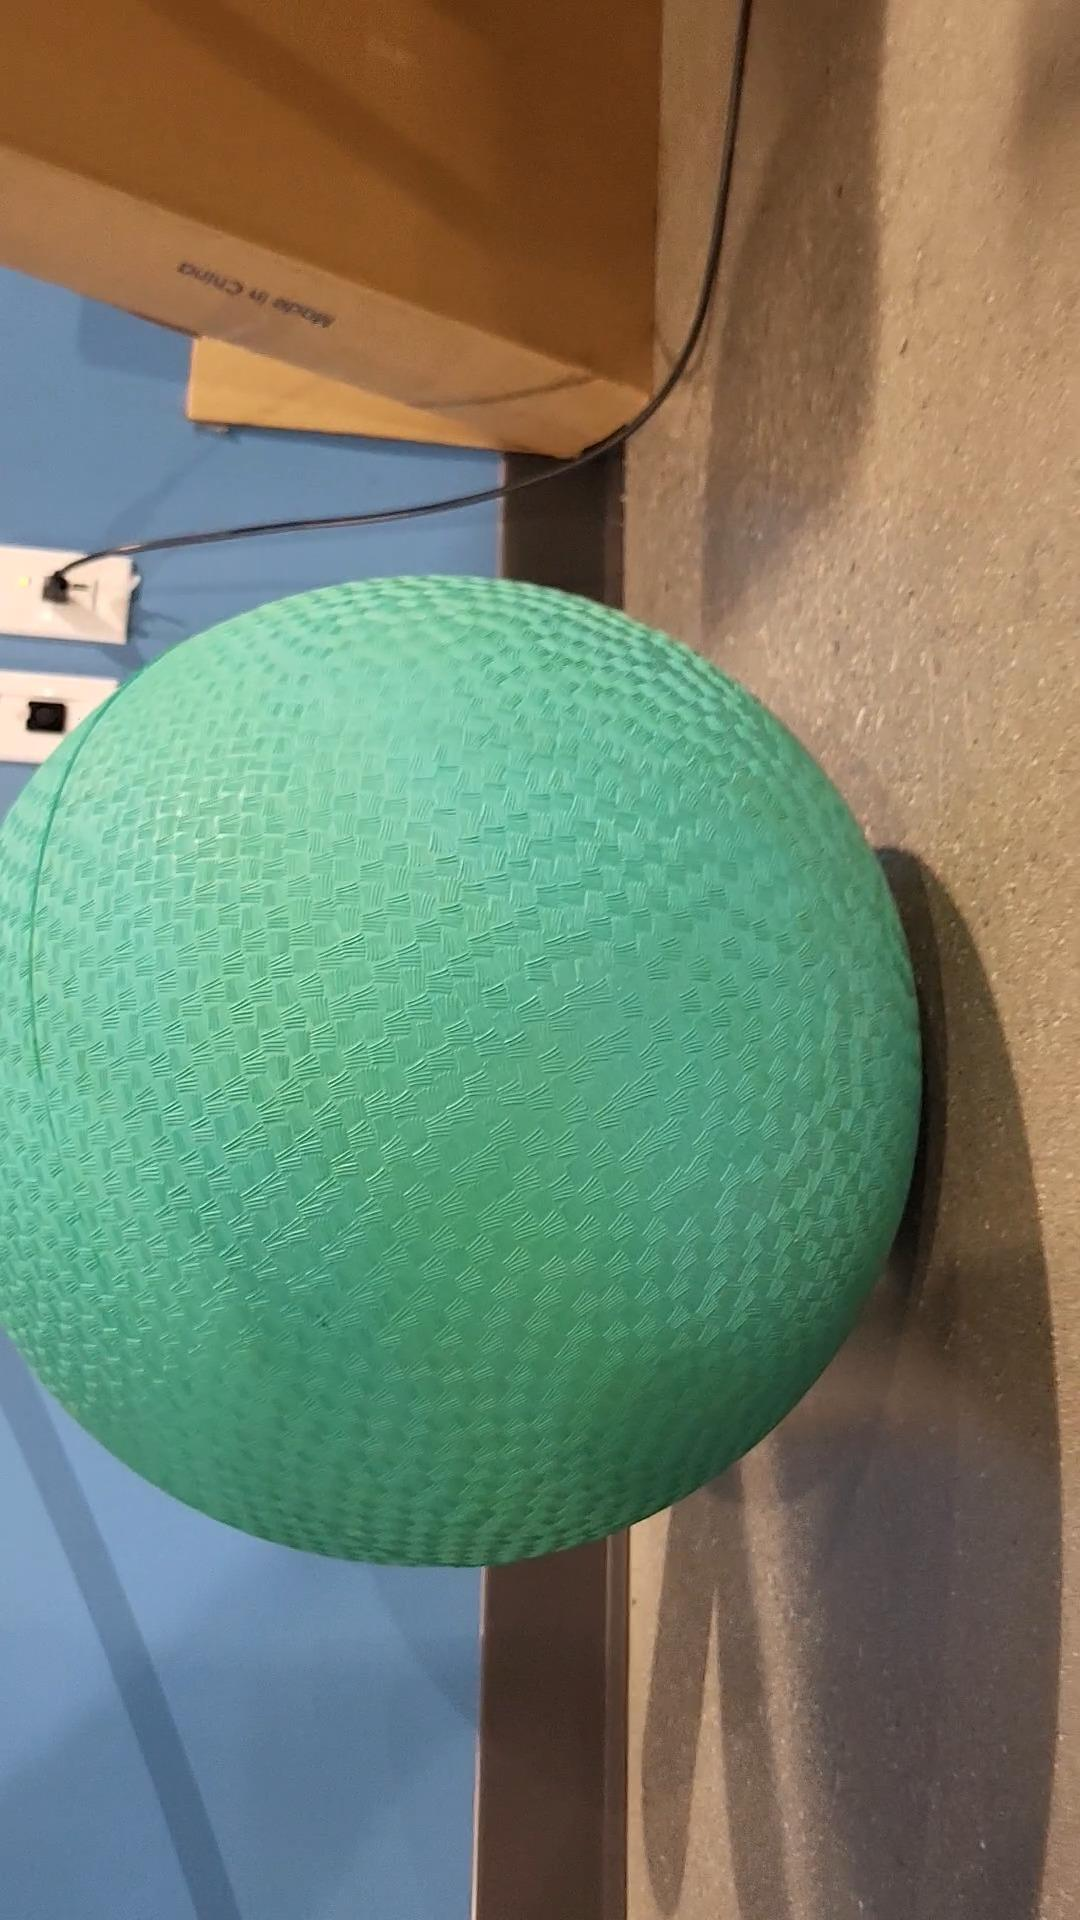algae: (0, 567, 940, 1586)
